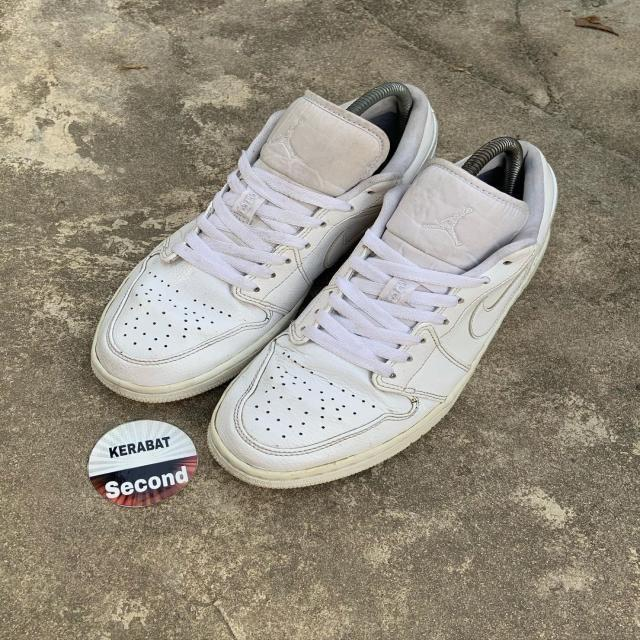nike original air force: (205, 133, 564, 488), (86, 82, 447, 401)
